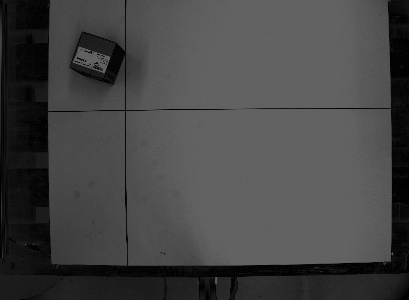b7: (66, 28, 126, 86)
